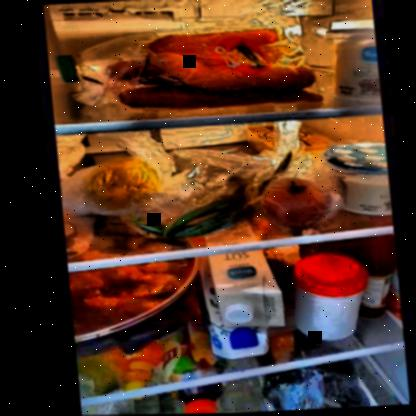broccoli: (253, 371, 367, 411)
carrot: (107, 28, 316, 110)
green_chillies: (131, 187, 258, 241)
lemon: (85, 159, 158, 210)
milk: (192, 254, 283, 361)
tomato: (256, 178, 326, 224)
yoghurt: (319, 142, 390, 219), (321, 27, 379, 98)
